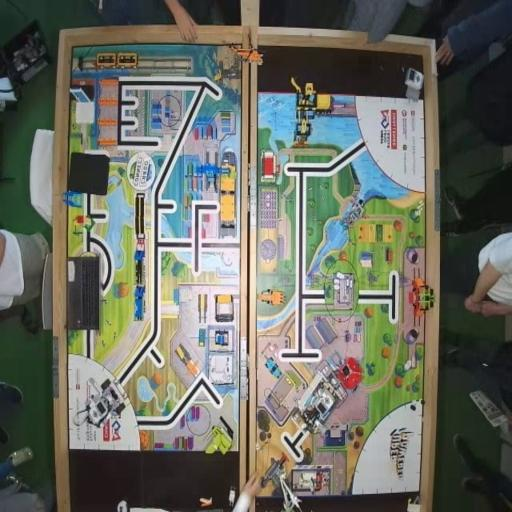lego_robot: (292, 359, 348, 437), (74, 377, 126, 431)
